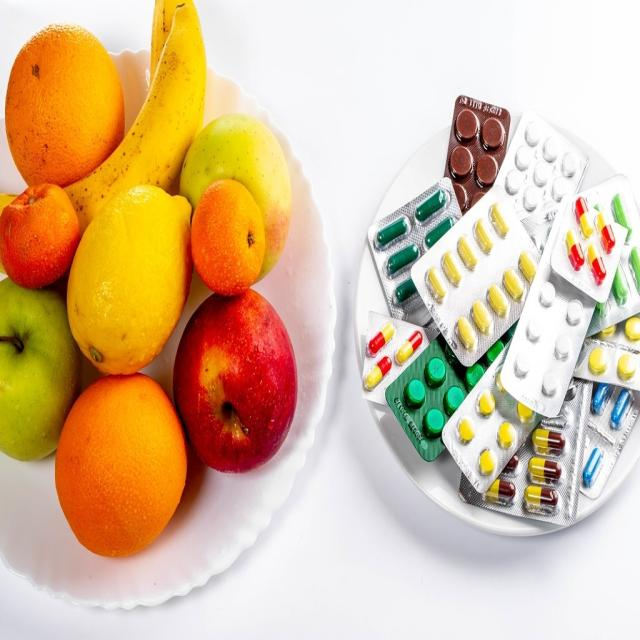Medical Waste: (342, 51, 640, 614)
